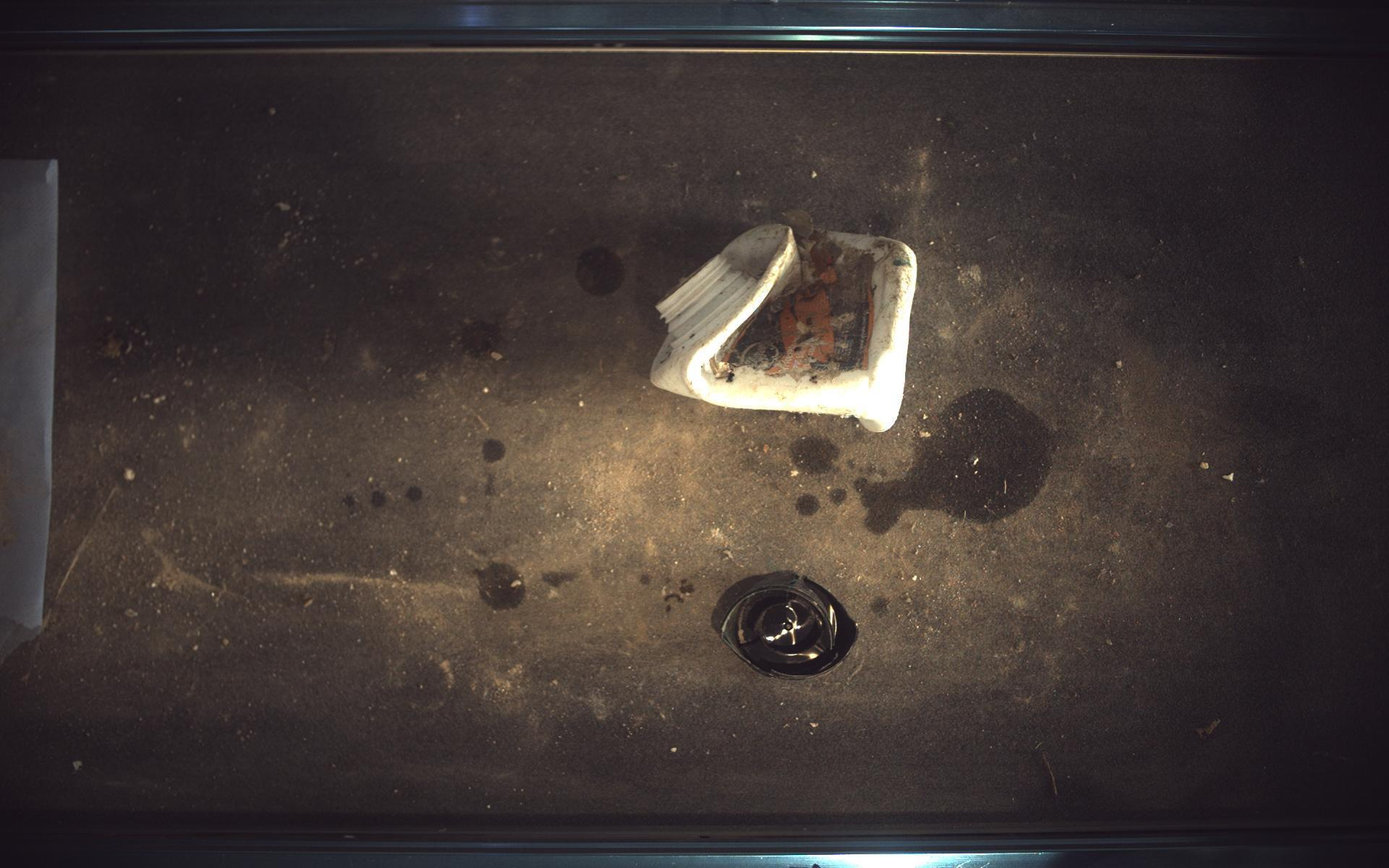general_w: (713, 571, 859, 678)
plastic: (651, 213, 918, 432)
